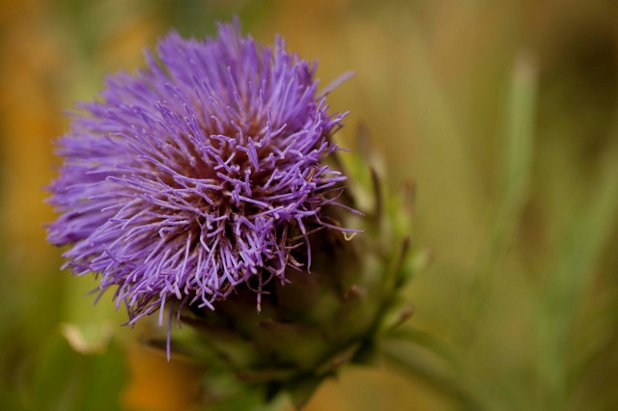thistle: (58, 24, 425, 394)
